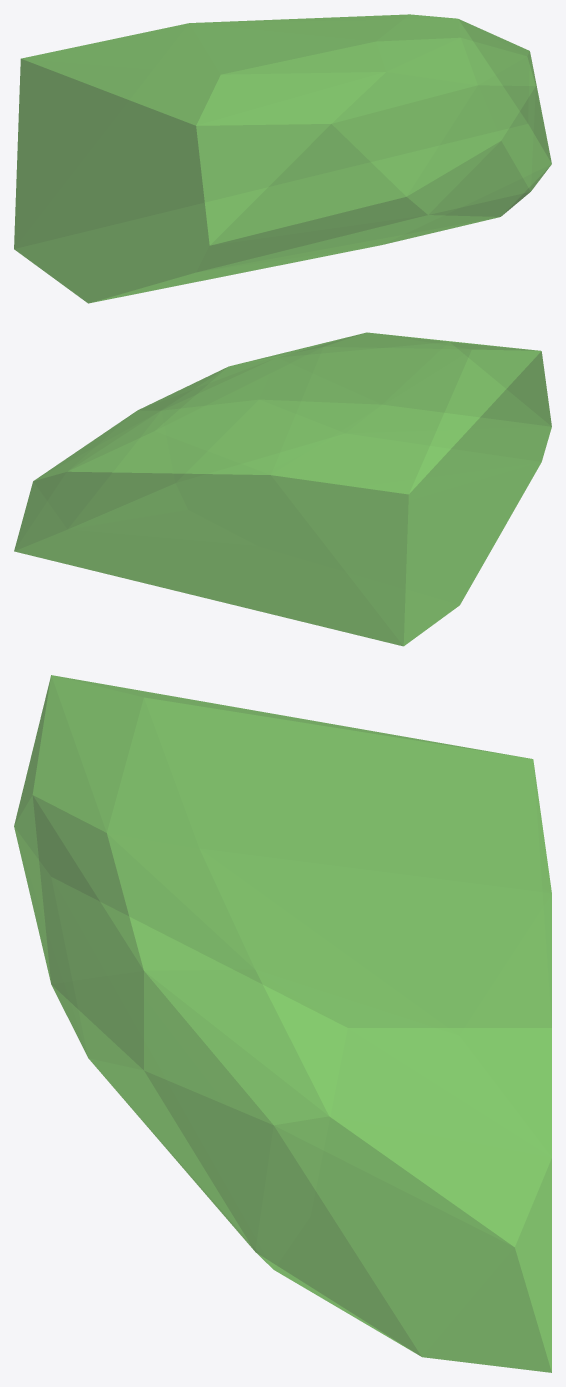
The picture shows the model from 3 angles, top to bottom: view 1: azimuth 30°, elevation 25°; view 2: azimuth 150°, elevation 25°; view 3: azimuth 270°, elevation 25°; orthographic projection. The views are drawn at different scales.
Parts seen in each view (by area): view 1: Shape_IndexedFaceSet.057_Shape_IndexedFaceSet.655; view 2: Shape_IndexedFaceSet.057_Shape_IndexedFaceSet.655; view 3: Shape_IndexedFaceSet.057_Shape_IndexedFaceSet.655.
Boxes of the visible parts, box(x1,y1,x2,y2) form: Shape_IndexedFaceSet.057_Shape_IndexedFaceSet.655: box(14, 14, 551, 303); Shape_IndexedFaceSet.057_Shape_IndexedFaceSet.655: box(14, 332, 551, 646); Shape_IndexedFaceSet.057_Shape_IndexedFaceSet.655: box(14, 675, 551, 1372).
Bounding box in the file's own units: 0.082 × 0.041 × 0.054.
